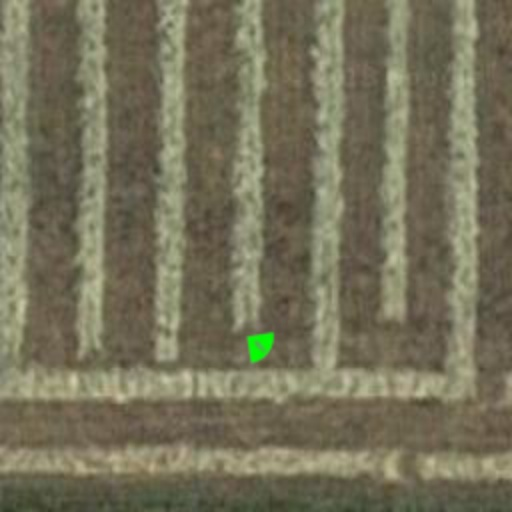quarter_circle: (234, 320, 286, 372)
